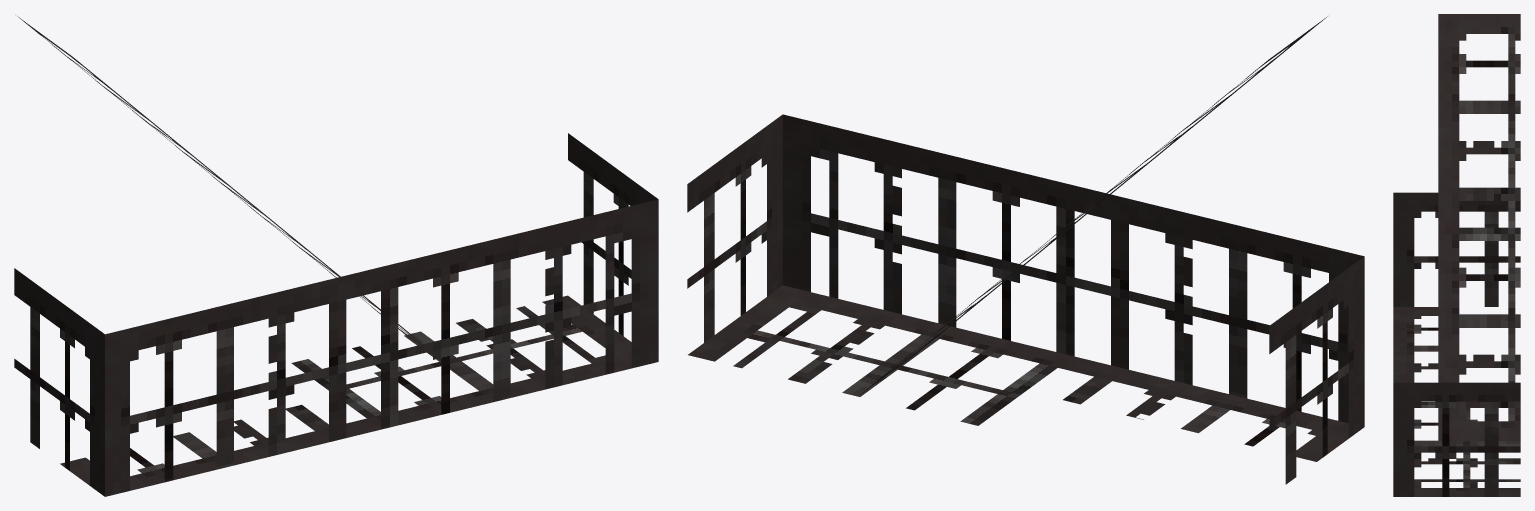
Rendered from balconyLadder_bottom.glb.
3 views of the same model, side by side, from view 1: azimuth 30°, elevation 25°; view 2: azimuth 150°, elevation 25°; view 3: azimuth 270°, elevation 25° (orthographic). The views are drawn at different scales.
Visible parts, largest first — view 1: balconyLadder_bottom; view 2: balconyLadder_bottom; view 3: balconyLadder_bottom.
Part boxes in pixels (x1=…): balconyLadder_bottom: x1=14, y1=16, x2=658, y2=496; balconyLadder_bottom: x1=687, y1=16, x2=1364, y2=484; balconyLadder_bottom: x1=1393, y1=14, x2=1520, y2=496.
Size of the model in its own units: 1 by 0.7192 by 0.2837.
1 material, 1 textured.
